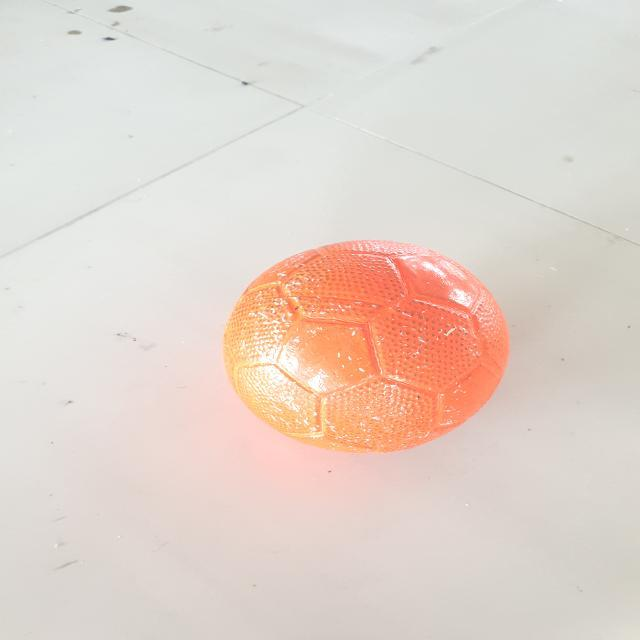bola: (214, 235, 519, 460)
